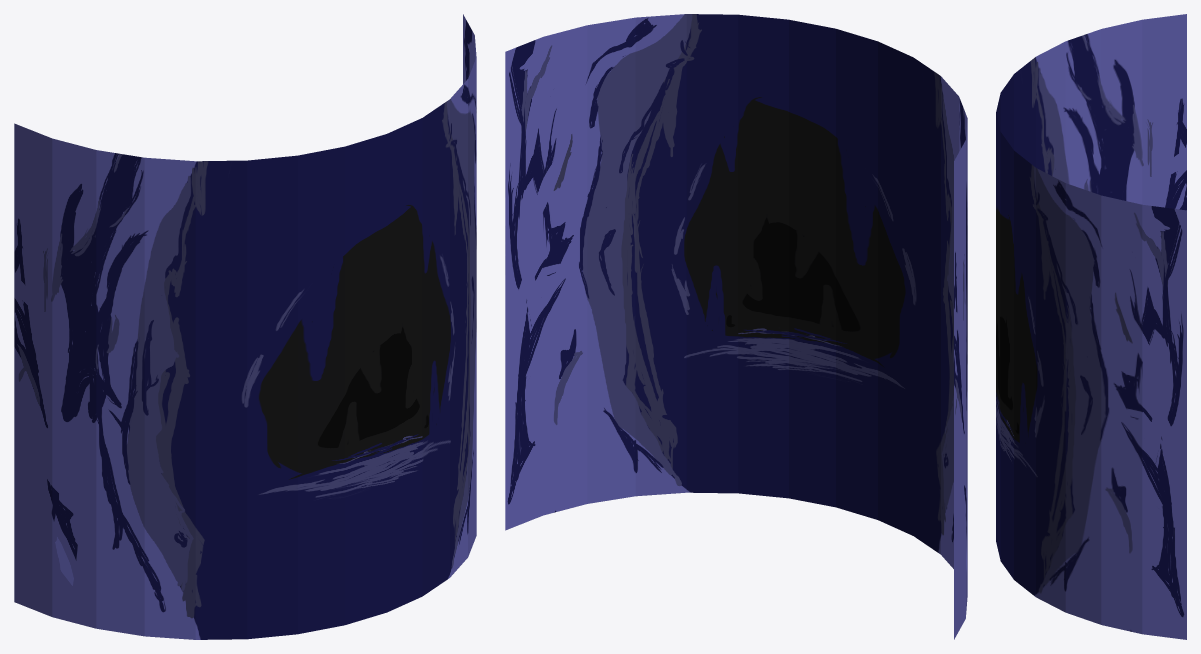
Rendered from BackGround.obj.
3 views of the same model, side by side, from view 1: azimuth 30°, elevation 25°; view 2: azimuth 150°, elevation 25°; view 3: azimuth 270°, elevation 25° (orthographic). The views are drawn at different scales.
Visible parts, largest first — view 1: 円柱; view 2: 円柱; view 3: 円柱.
Boxes of the visible parts, <box> form: 円柱: <box>14,14,476,639</box>; 円柱: <box>505,14,967,639</box>; 円柱: <box>996,14,1186,639</box>.
Bounding box in the file's own units: 196 × 200 × 80.49.
